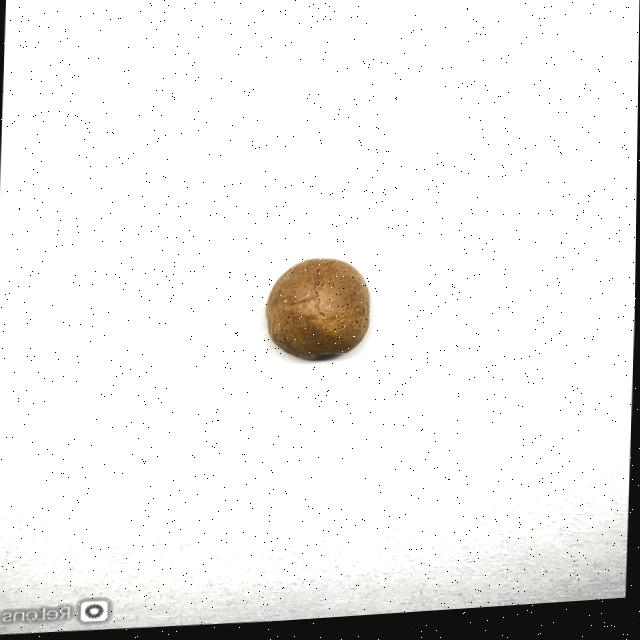Good bean: (264, 259, 374, 365)
